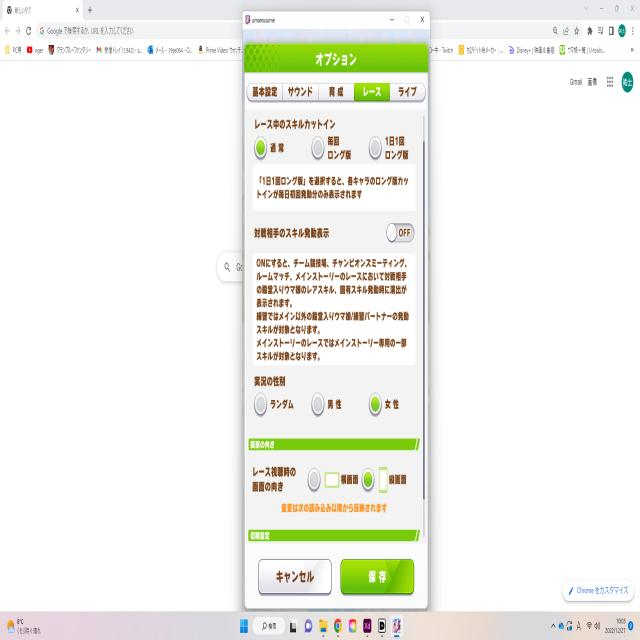radio: (368, 392, 383, 418), (311, 392, 326, 416), (361, 468, 376, 492), (368, 135, 382, 160), (307, 468, 322, 491), (254, 393, 268, 417), (310, 137, 325, 159), (254, 137, 267, 160)
toggle: (386, 220, 415, 244)
